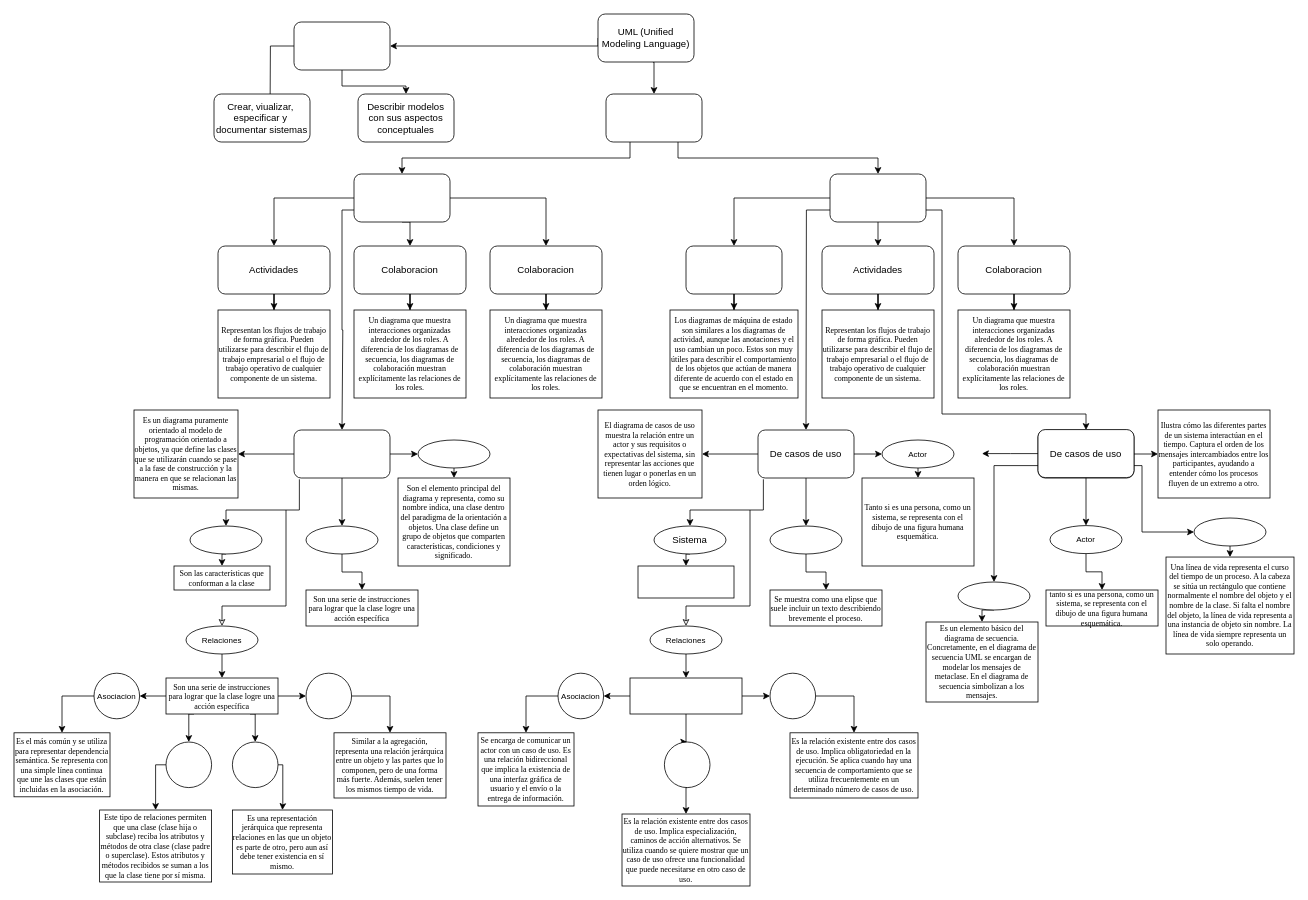
Image size: 1308x900. Some labels were removed from this diagram. The shapes that lost their labels are listed below. From the top down, each one's centre as x and y in pixels, then its label:
At pixel 341 45: "Usos".
At pixel 653 117: "Tipos".
At pixel 401 197: "Estructurado".
At pixel 877 197: "Comportamiento".
At pixel 733 269: "Estado".
At pixel 341 453: "De clases".
At pixel 453 453: "Clases".
At pixel 225 539: "Atributos".
At pixel 341 539: "Métodos".
At pixel 805 539: "Caso de uso".
At pixel 1229 531: "Linea de vida".
At pixel 685 581: "El sistema al que se refiere el caso de uso tiene forma de rectángulo.".
At pixel 993 595: "Mensaje".
At pixel 328 695: "Composicion".
At pixel 685 695: "Son asociaciones entre los casos de uso y los actores o entre casos de uso.".
At pixel 792 695: "Incluir (include)".
At pixel 188 764: "Herencia".
At pixel 255 764: "Agregacion".
At pixel 687 764: "Extender (extend)".
